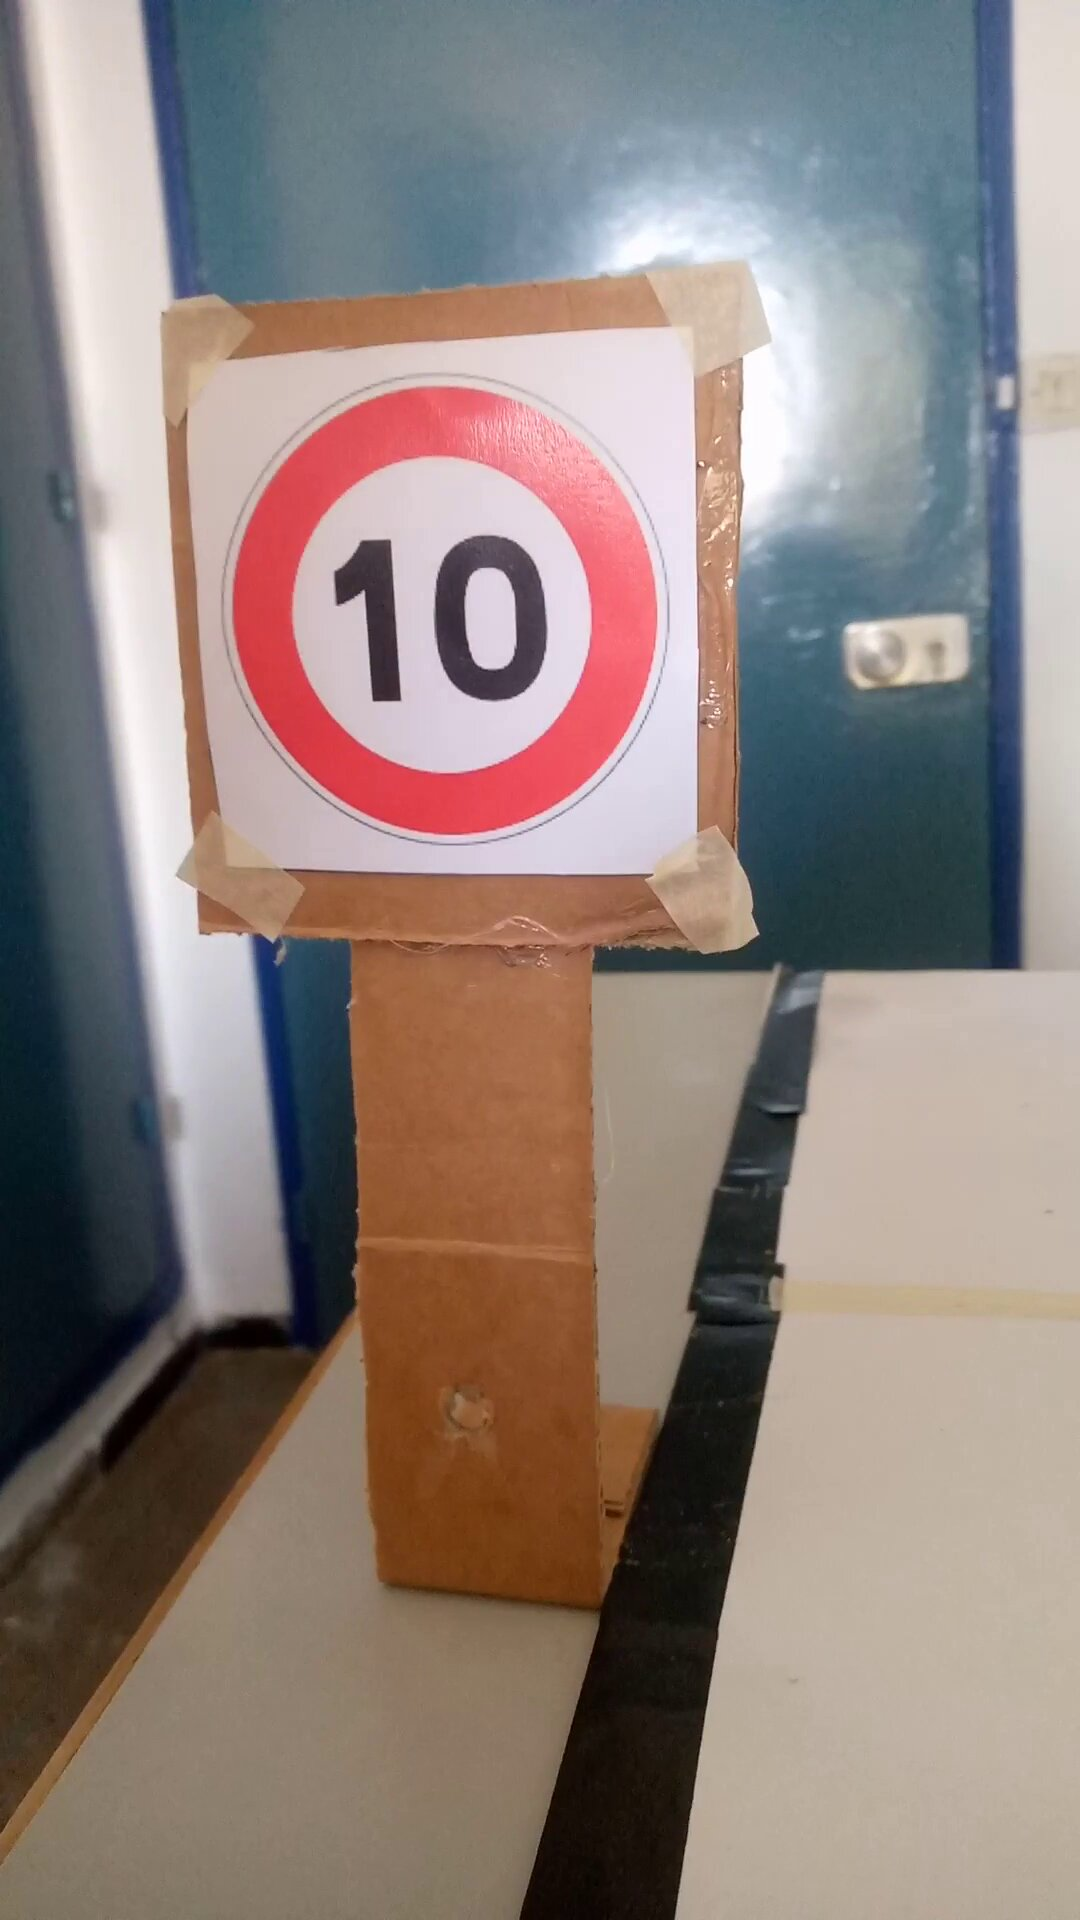panel011: (178, 351, 715, 889)
